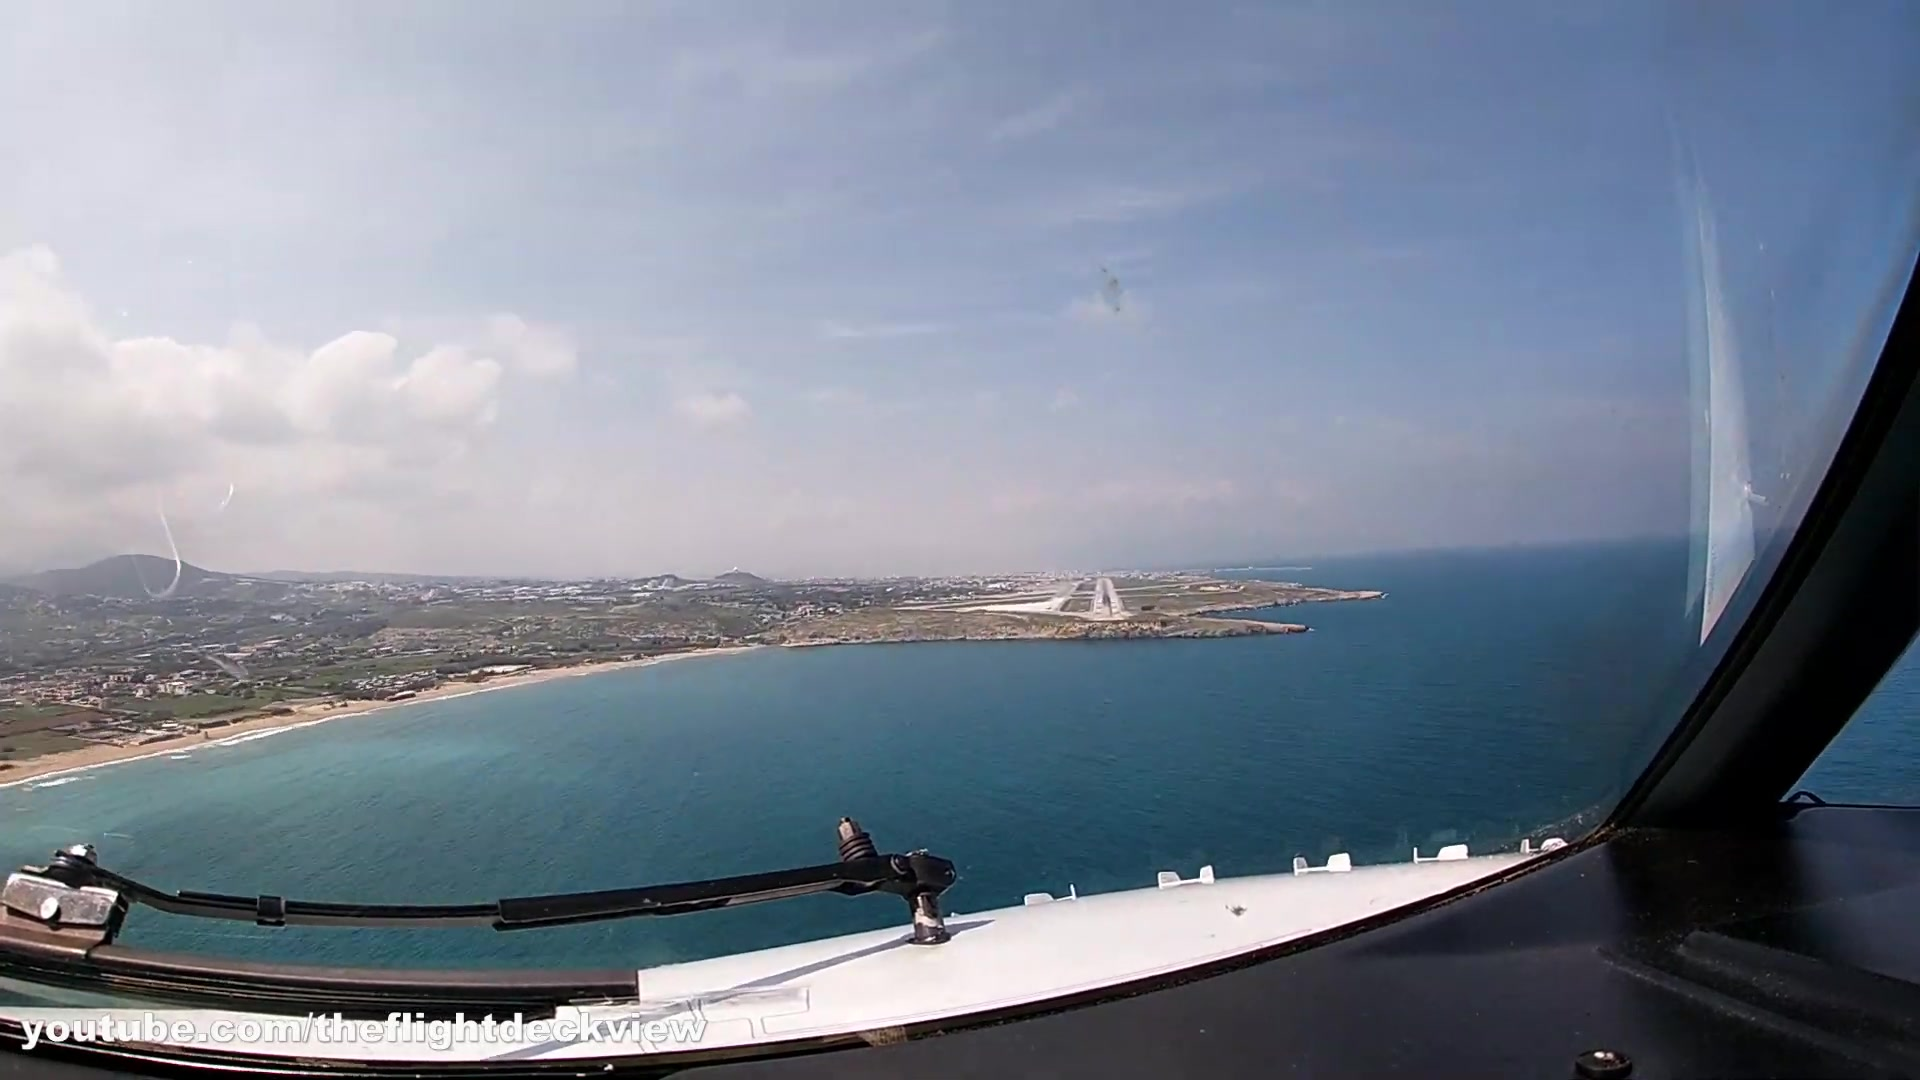runway: (1091, 575, 1125, 618)
